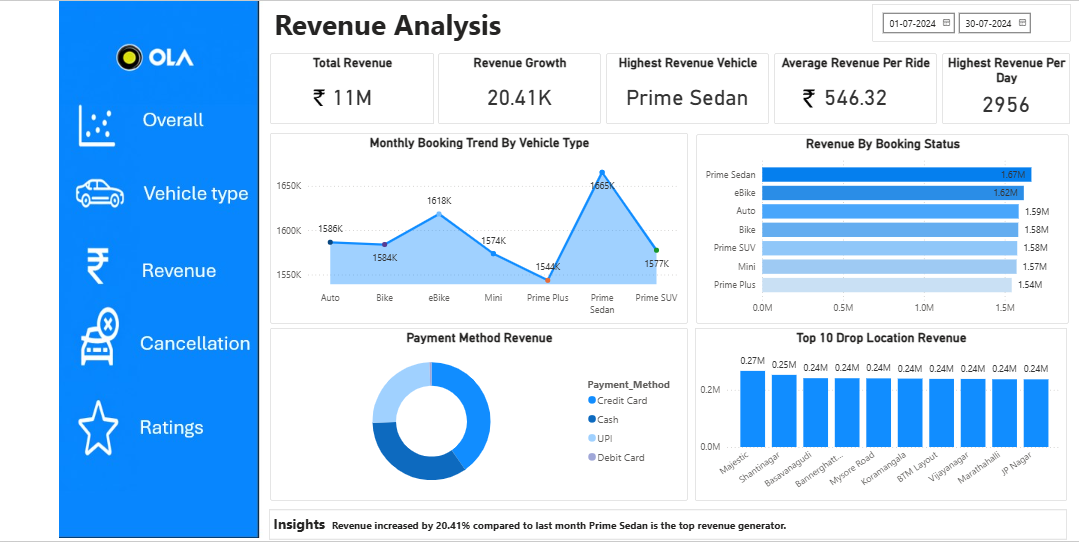

What the dashboard file says about the page in this screenshot:
{"tool":"powerbi","page":{"name":"Revenue","canvas":[1440,720],"ordinal":2},"visuals":[{"type":"actionButton","box":[82,406,260,130],"z":0},{"type":"actionButton","box":[80,224,262,90],"z":1000},{"type":"actionButton","box":[82,136,260,88],"z":2000},{"type":"actionButton","box":[82,536,260,130],"z":3000},{"type":"textbox","box":[361.5,0,413.5,69.2],"z":4000},{"type":"card","title":"Revenue Growth","fields":{"Values":["CountNonNull(Sheet1.Booking_ID)"]},"box":[586,70,216,94],"z":5000},{"type":"card","title":"Total Revenue","fields":{"Values":["Sum(Sheet1.Booking_Value)"]},"box":[362,70,218,94],"z":6000},{"type":"card","title":"Highest Revenue Vehicle","fields":{"Values":["Min(Sheet1.Vehicle_Type)"]},"box":[810,70,216,94],"z":7000},{"type":"card","title":"Average Revenue Per Ride","fields":{"Values":["Sheet1.Avg Booking Value Per Ride"]},"box":[1034,70,216,94],"z":8000},{"type":"image","box":[404,118,46,22],"z":9000},{"type":"slicer","fields":{"Values":["Sheet1.Date"]},"box":[1163.3,3.3,265,50],"z":10000},{"type":"clusteredBarChart","title":"Revenue By Booking Status","fields":{"Category":["Sheet1.Vehicle_Type"],"Y":["Sheet1.Total Booking Value"]},"box":[930,178,496,252],"z":11000},{"type":"donutChart","title":"Payment Method Revenue","fields":{"Y":["Sum(July.Booking_Value)"],"Category":["Sheet1.Payment_Method"]},"box":[362,436,556,230],"z":12000},{"type":"clusteredColumnChart","title":"Top 10 Drop Location Revenue","fields":{"Category":["Sheet1.Drop_Location"],"Y":["Sum(Sheet1.Booking_Value)"]},"box":[928,436,496,230],"z":13000},{"type":"image","box":[1058,118,44,24],"z":14000},{"type":"areaChart","title":"Monthly Booking Trend By Vehicle Type","fields":{"Category":["Sheet1.Vehicle_Type","July.Date.Variation.Date Hierarchy.Year","July.Date.Variation.Date Hierarchy.Quarter","July.Date.Variation.Date Hierarchy.Month","July.Date.Variation.Date Hierarchy.Day"],"Y":["Sum(July.Booking_Value)"]},"box":[362,176,556,254],"z":15000},{"type":"card","title":"Highest Revenue Per Day","fields":{"Values":["Max(Sheet1.Booking_Value)"]},"box":[1258,70,170,94],"z":16000},{"type":"textbox","box":[360,678,1064,40],"z":17000}]}

Visuals, with their boxes in screenshot pixels (x1, y1, x2, y2), scaled from the page's 1440x720 canvas onto the 1079x542 screenshot:
actionButton: rect(61, 306, 256, 403)
actionButton: rect(60, 169, 256, 236)
actionButton: rect(61, 102, 256, 169)
actionButton: rect(61, 403, 256, 501)
textbox: rect(271, 0, 581, 52)
"Revenue Growth" card: rect(439, 53, 601, 123)
"Total Revenue" card: rect(271, 53, 435, 123)
"Highest Revenue Vehicle" card: rect(607, 53, 769, 123)
"Average Revenue Per Ride" card: rect(775, 53, 937, 123)
image: rect(303, 89, 337, 105)
slicer - Sheet1.Date: rect(872, 2, 1070, 40)
"Revenue By Booking Status" clusteredBarChart: rect(697, 134, 1069, 324)
"Payment Method Revenue" donutChart: rect(271, 328, 688, 501)
"Top 10 Drop Location Revenue" clusteredColumnChart: rect(695, 328, 1067, 501)
image: rect(793, 89, 826, 107)
"Monthly Booking Trend By Vehicle Type" areaChart: rect(271, 132, 688, 324)
"Highest Revenue Per Day" card: rect(943, 53, 1070, 123)
textbox: rect(270, 510, 1067, 540)
